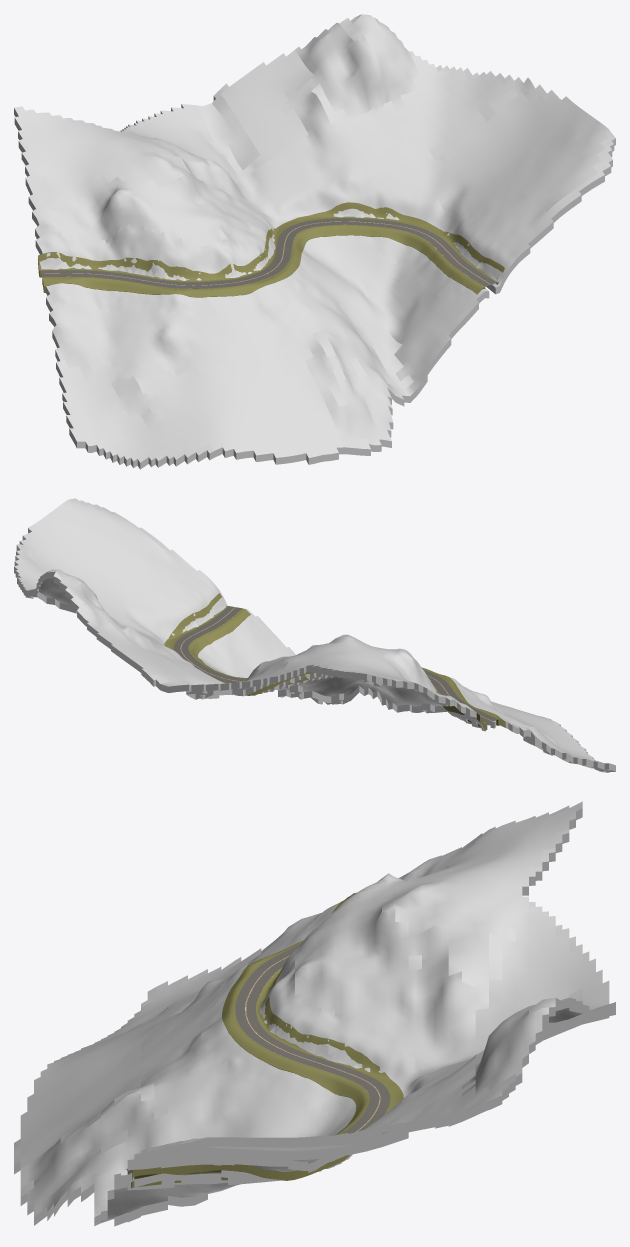
Rendered from conz_185.glb.
3 renders of one model, top to bottom at view 1: azimuth 30°, elevation 25°; view 2: azimuth 150°, elevation 25°; view 3: azimuth 270°, elevation 25°, orthographic. The views are drawn at different scales.
Visible parts, largest first — view 1: terrain185, verge185L, verge185R, road185; view 2: terrain185, road185, verge185L, verge185R; view 3: terrain185, verge185R, road185, verge185L.
Part boxes in pixels (bbox=[...]): terrain185: bbox=[14, 14, 615, 469]; verge185L: bbox=[42, 225, 485, 297]; verge185R: bbox=[38, 202, 504, 288]; road185: bbox=[40, 218, 496, 288]; terrain185: bbox=[14, 498, 615, 772]; road185: bbox=[173, 606, 497, 723]; verge185L: bbox=[188, 608, 505, 727]; verge185R: bbox=[164, 593, 487, 730]; terrain185: bbox=[14, 801, 615, 1226]; verge185R: bbox=[131, 965, 403, 1188]; road185: bbox=[235, 944, 390, 1133]; verge185L: bbox=[126, 892, 369, 1170].
Bounding box in the file's own units: 256 × 111 × 180.
